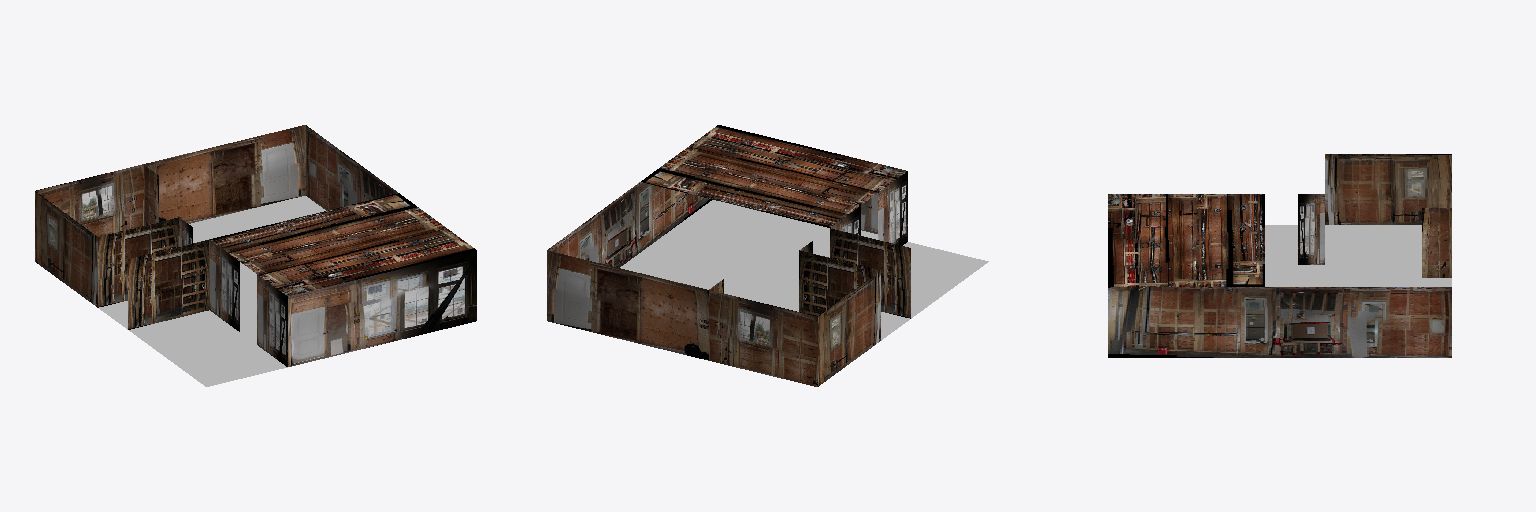
The picture shows the model from 3 angles: view 1: azimuth 30°, elevation 25°; view 2: azimuth 150°, elevation 25°; view 3: azimuth 270°, elevation 25°; orthographic projection.
Bounding box in the file's own units: 1000 × 250 × 1098.
12 materials, 8 textured.